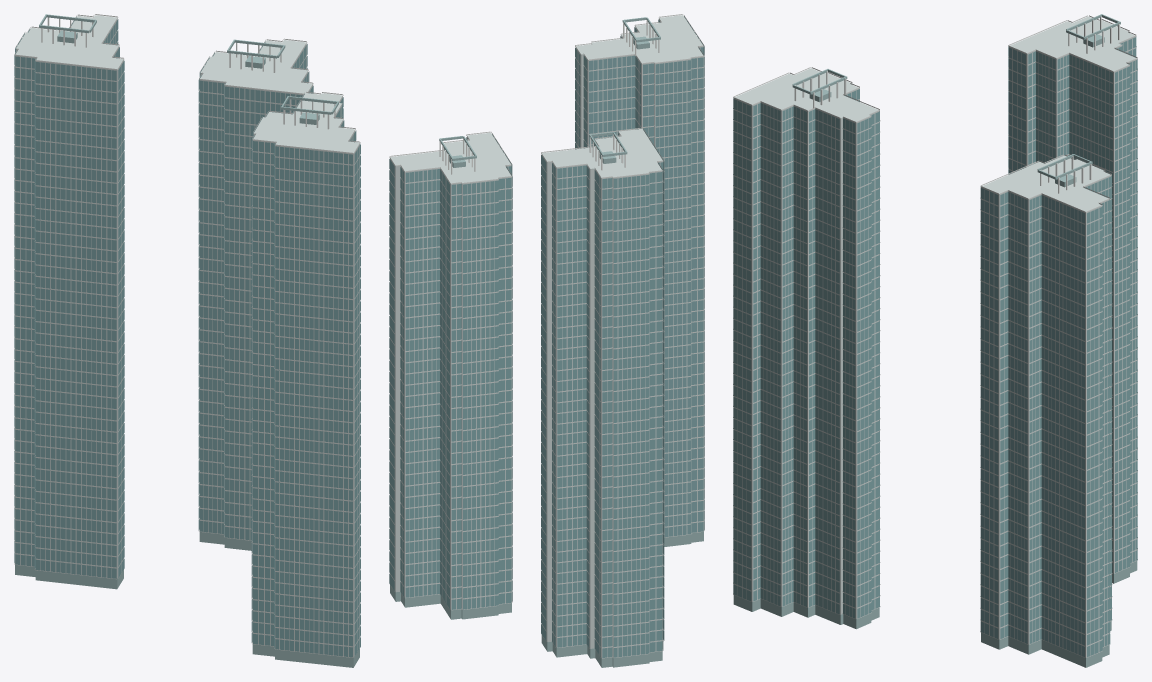
The model's file is representative-a13509009.glb.
3 renders of one model, left to right at view 1: azimuth 30°, elevation 25°; view 2: azimuth 150°, elevation 25°; view 3: azimuth 270°, elevation 25°, orthographic. The views are drawn at different scales.
Visible parts, largest first — view 1: A13509009_glass001, A13509009_wall001, A13509009_trim001, A13509009_base001, A13509009_roof001; view 2: A13509009_glass001, A13509009_wall001, A13509009_trim001, A13509009_base001, A13509009_roof001; view 3: A13509009_glass001, A13509009_wall001, A13509009_trim001, A13509009_base001, A13509009_roof001.
Boxes of the visible parts, bbox=[...] form: A13509009_glass001: bbox=[14, 17, 360, 657]; A13509009_wall001: bbox=[15, 15, 359, 657]; A13509009_trim001: bbox=[14, 14, 360, 657]; A13509009_base001: bbox=[15, 532, 359, 667]; A13509009_roof001: bbox=[39, 14, 338, 124]; A13509009_glass001: bbox=[389, 16, 704, 657]; A13509009_wall001: bbox=[390, 15, 703, 657]; A13509009_trim001: bbox=[389, 14, 704, 658]; A13509009_base001: bbox=[390, 532, 703, 667]; A13509009_roof001: bbox=[439, 17, 660, 167]; A13509009_glass001: bbox=[733, 36, 1137, 657]; A13509009_wall001: bbox=[733, 16, 1137, 657]; A13509009_trim001: bbox=[733, 15, 1137, 657]; A13509009_base001: bbox=[733, 561, 1137, 667]; A13509009_roof001: bbox=[792, 14, 1120, 187].
Size of the model in its own units: 117 by 207 by 143.
